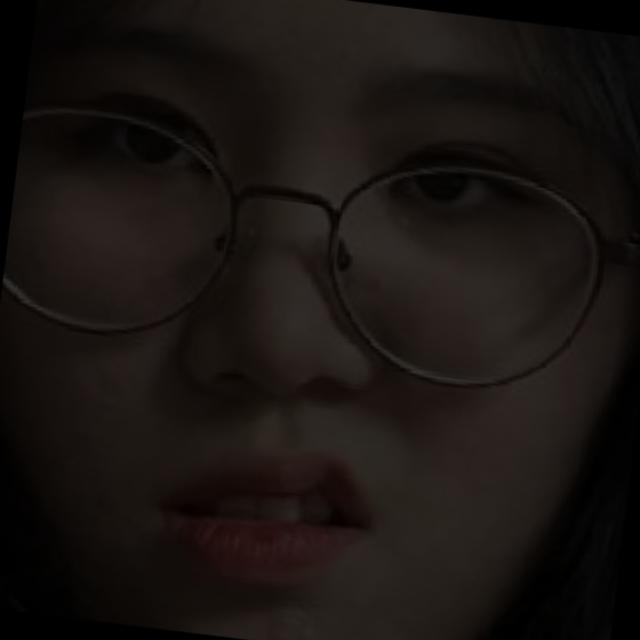Angry: (30, 40, 618, 640)
